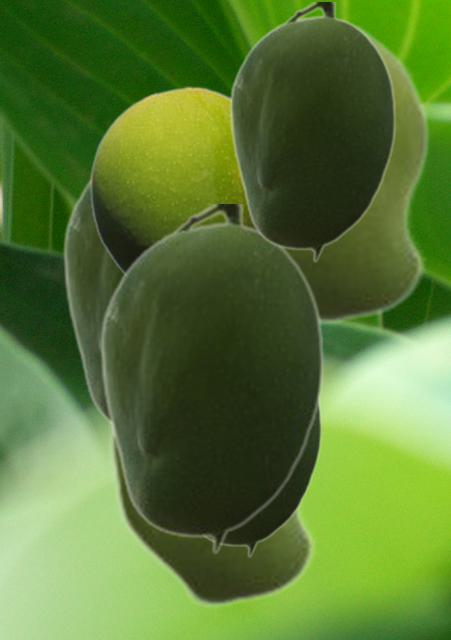green_mango: (98, 204, 323, 554), (225, 15, 430, 326), (109, 399, 321, 609), (228, 2, 395, 262), (89, 86, 251, 273), (204, 405, 321, 557), (61, 177, 121, 426)
